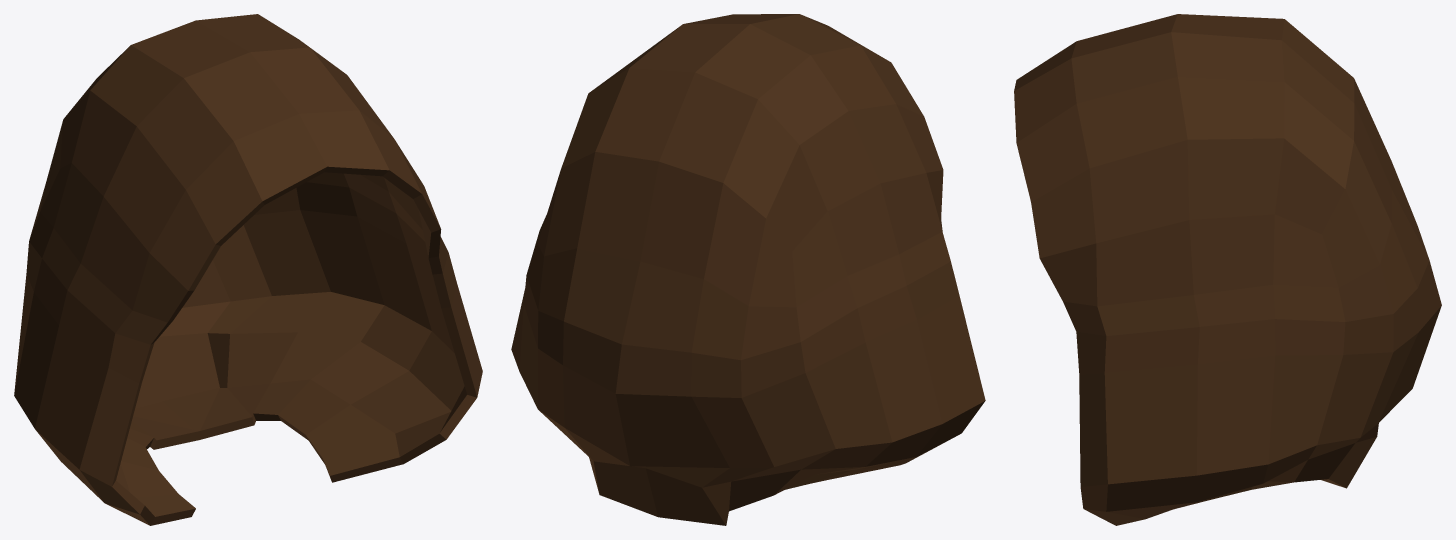
The model's file is Hood.fbx.
3 views of the same model, side by side, from view 1: azimuth 30°, elevation 25°; view 2: azimuth 150°, elevation 25°; view 3: azimuth 270°, elevation 25° (orthographic).
Visible parts, largest first — view 1: Medieval_Head.005; view 2: Medieval_Head.005; view 3: Medieval_Head.005.
Boxes of the visible parts, left/top/right/bottom form: Medieval_Head.005: left=14, top=14, right=482, bottom=525; Medieval_Head.005: left=511, top=14, right=985, bottom=525; Medieval_Head.005: left=1014, top=14, right=1441, bottom=525.
Size of the model in its own units: 34.49 by 35.68 by 30.95.
